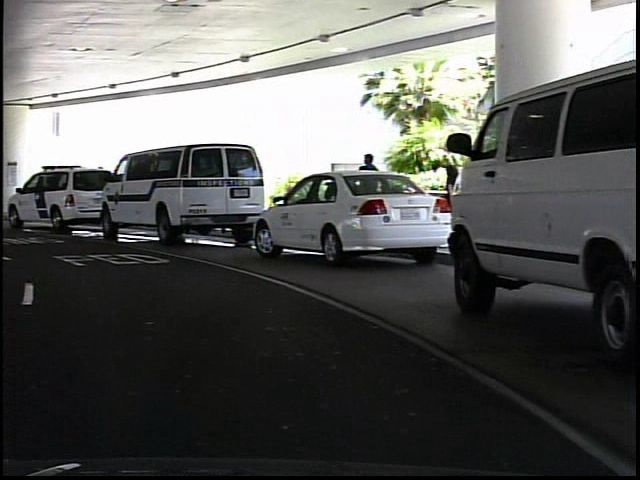person: (352, 147, 384, 236)
